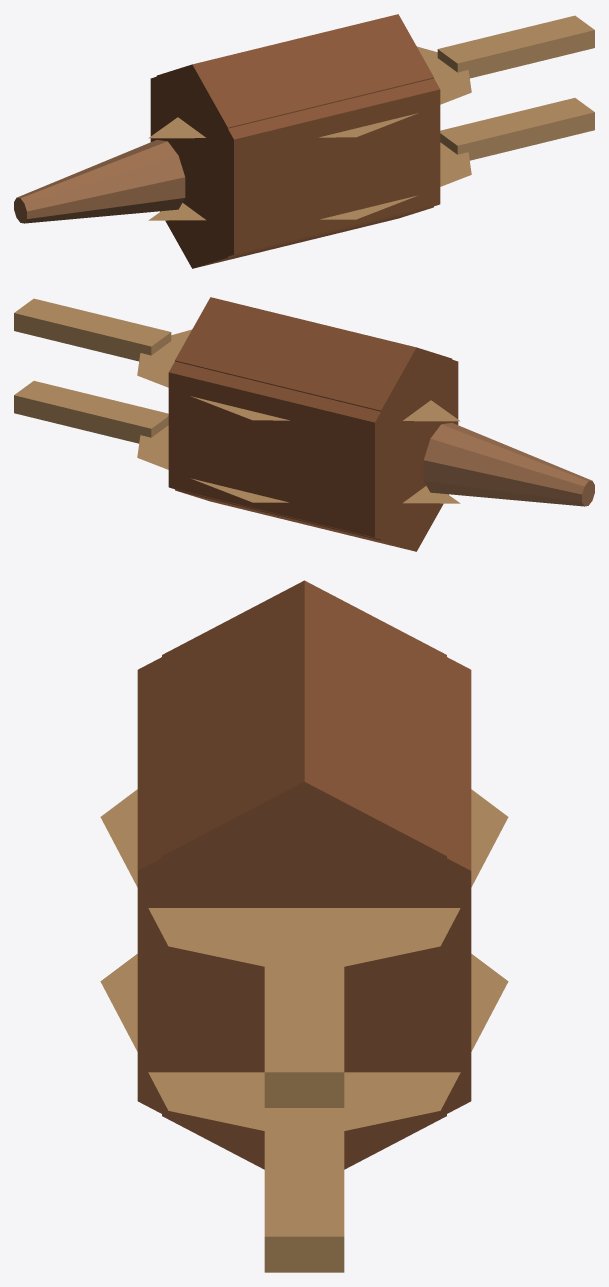
File: bellows.glb
3 renders of one model, top to bottom at view 1: azimuth 30°, elevation 25°; view 2: azimuth 150°, elevation 25°; view 3: azimuth 270°, elevation 25°, orthographic. The views are drawn at different scales.
Visible parts, largest first — view 1: Bellows • pleated leather and oak handles.001; view 2: Bellows • pleated leather and oak handles.001; view 3: Bellows • pleated leather and oak handles.001.
Boxes of the visible parts, x1,y1,x2,y2 form: Bellows • pleated leather and oak handles.001: (14, 14, 594, 268); Bellows • pleated leather and oak handles.001: (14, 297, 594, 551); Bellows • pleated leather and oak handles.001: (100, 580, 508, 1272).
Size of the model in its own units: 1.15 by 0.398 by 0.36.
